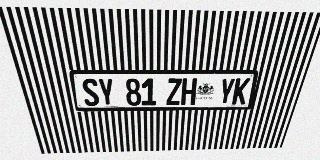1: (141, 78, 156, 105)
8: (125, 78, 141, 106)
H: (181, 78, 197, 105)
K: (231, 78, 251, 104)
S: (81, 78, 100, 106)
Y: (217, 78, 236, 105), (97, 78, 115, 106)
Z: (166, 78, 182, 105)
